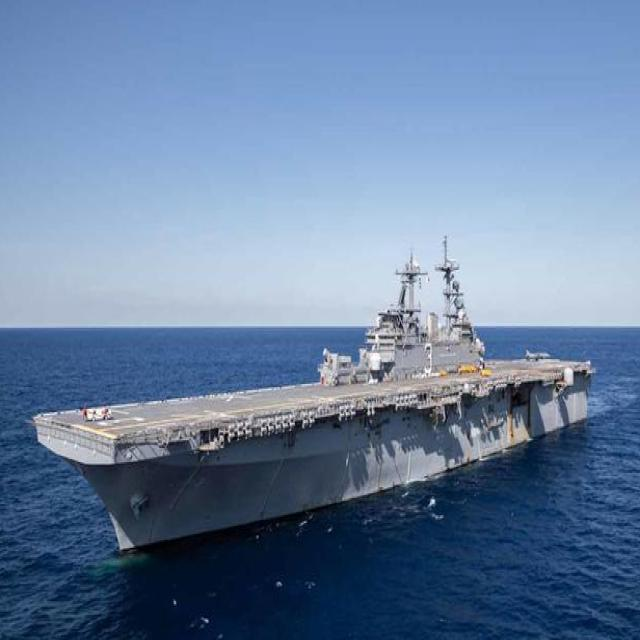navalvessels: (51, 244, 615, 526)
